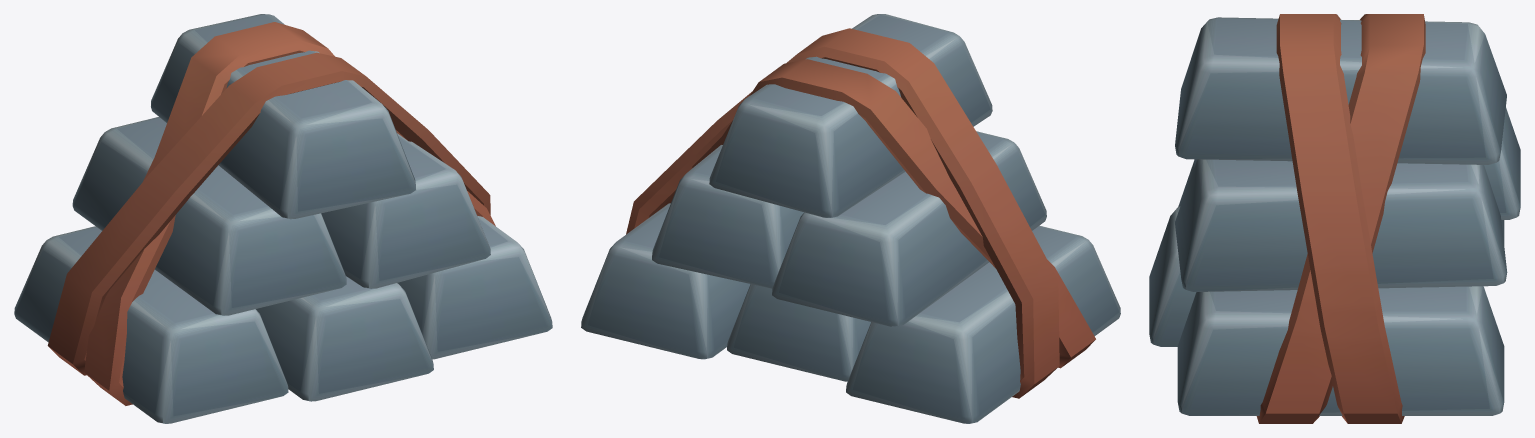
File: iron_bars.glb
3 renders of one model, left to right at view 1: azimuth 30°, elevation 25°; view 2: azimuth 150°, elevation 25°; view 3: azimuth 270°, elevation 25°, orthographic. The views are drawn at different scales.
Parts seen in each view (by area): view 1: Iron_Bars; view 2: Iron_Bars; view 3: Iron_Bars.
Boxes of the visible parts, x1,y1,x2,y2 form: Iron_Bars: (14,14,552,423); Iron_Bars: (581,14,1120,423); Iron_Bars: (1149,14,1520,423).
Size of the model in its own units: 1.27 by 0.7897 by 0.9106.
1 material, 1 textured.
